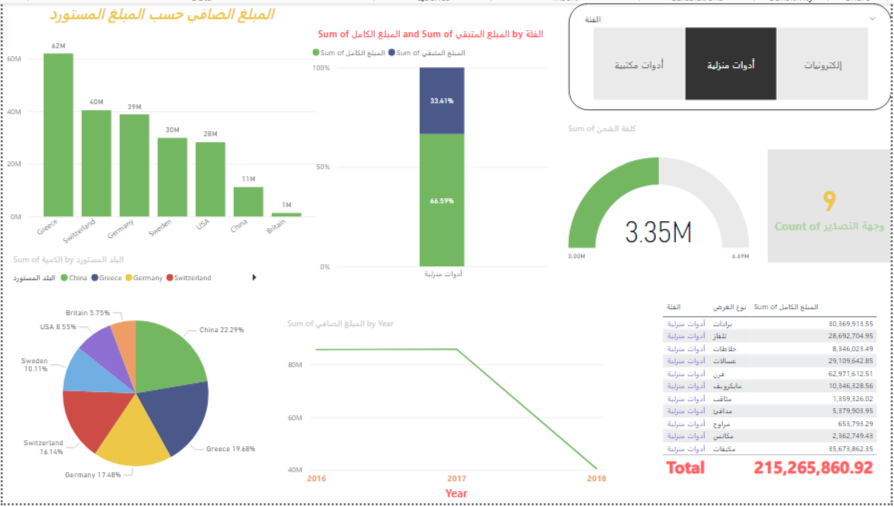

The page's visual inventory and layout, read from the dashboard file:
{"tool":"powerbi","page":{"name":"Page 1","canvas":[1280,720],"ordinal":0},"visuals":[{"type":"columnChart","title":"المبلغ الصافي حسب المبلغ المستورد","fields":{"Category":["Table1.البلد المستورد"],"Y":["Sum(Table1.المبلغ الصافي)"]},"box":[0,0,457.9,360],"z":0},{"type":"pieChart","fields":{"Category":["Table1.البلد المستورد"],"Y":["Sum(Table1.الكمية)"]},"box":[10.1,360,362.9,360],"z":1000},{"type":"lineChart","fields":{"Y":["Sum(Table1.المبلغ الصافي)"],"Category":["Table1.تاريخ الاستيراد.Variation.Date Hierarchy.Year","Table1.تاريخ الاستيراد.Variation.Date Hierarchy.Quarter","Table1.تاريخ الاستيراد.Variation.Date Hierarchy.Month","Table1.تاريخ الاستيراد.Variation.Date Hierarchy.Day"]},"box":[404.6,452.2,469.4,267.8],"z":2000},{"type":"hundredPercentStackedColumnChart","fields":{"Y":["Sum(Table1.المبلغ الكامل)","Sum(Table1.المبلغ المتبقي)"],"Category":["Table1.الفئة"]},"box":[440.6,34.6,351.4,373],"z":3000},{"type":"tableEx","fields":{"Values":["Table1.الفئة","Table1.نوع الغرض","Sum(Table1.المبلغ الكامل)"]},"box":[944.6,421.9,335.5,298.1],"z":4000},{"type":"card","fields":{"Values":["Count(Table1.وجهة التصدير)"]},"box":[1101.6,210.2,178.6,162.7],"z":5000},{"type":"slicer","fields":{"Values":["Table1.الفئة"]},"box":[815,0,465.1,154.1],"z":6000},{"type":"gauge","fields":{"Y":["Sum(Table1.كلفة الشحن)"]},"box":[809.3,171.4,270.7,236.2],"z":7000}]}

Visuals, with their boxes in screenshot pixels (x1, y1, x2, y2), scaled from the page's 1280x720 canvas onto the 894x507 screenshot:
"المبلغ الصافي حسب المبلغ المستورد" columnChart: bbox=(0, 0, 320, 254)
pieChart - Table1.البلد المستورد x Sum(Table1.الكمية): bbox=(7, 254, 261, 506)
lineChart - Sum(Table1.المبلغ الصافي) x Table1.تاريخ الاستيراد.Variation.Date Hierarchy.Year: bbox=(283, 318, 610, 506)
hundredPercentStackedColumnChart - Sum(Table1.المبلغ الكامل) x Sum(Table1.المبلغ المتبقي): bbox=(308, 24, 553, 287)
tableEx - Table1.الفئة x Table1.نوع الغرض: bbox=(660, 297, 893, 506)
card - Count(Table1.وجهة التصدير): bbox=(769, 148, 893, 263)
slicer - Table1.الفئة: bbox=(569, 0, 893, 109)
gauge - Sum(Table1.كلفة الشحن): bbox=(565, 121, 754, 287)
